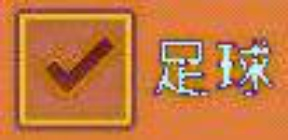CheckBox: (1, 1, 287, 139)
